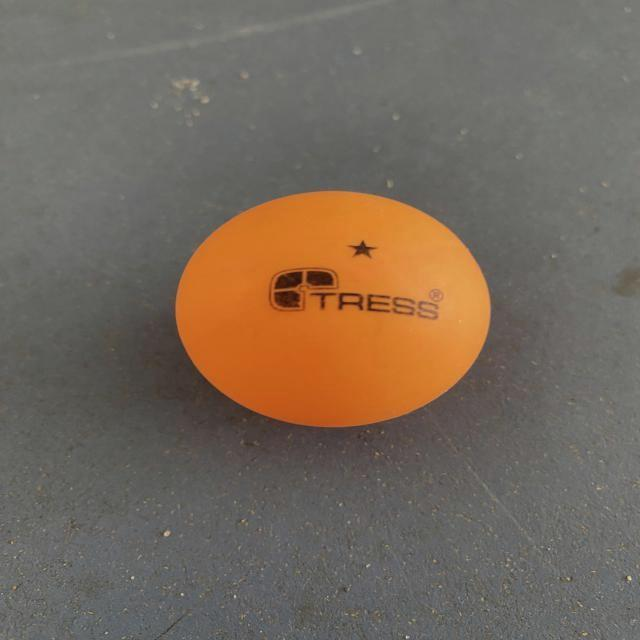orange-golf-balls: (177, 191, 494, 428)
